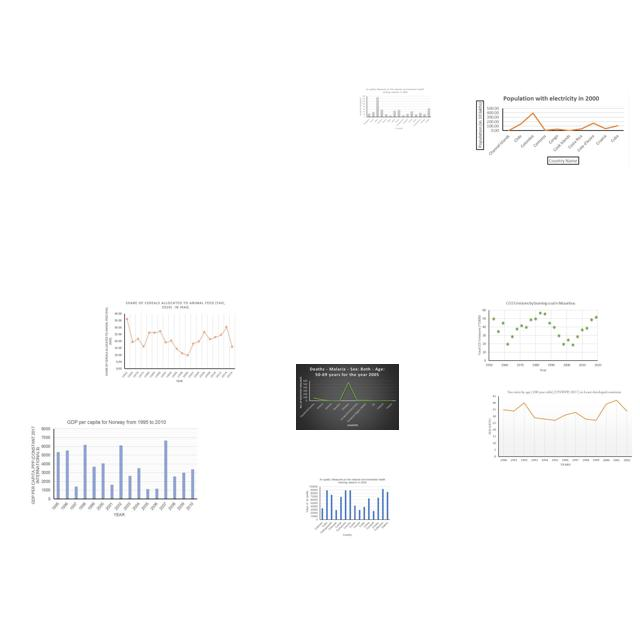Graph: (29, 418, 200, 518), (474, 91, 629, 169), (103, 299, 237, 386), (486, 388, 633, 467), (476, 300, 602, 373), (296, 364, 399, 430), (304, 477, 392, 538), (358, 87, 432, 131)
